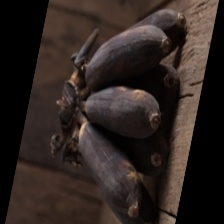banana: (15, 36, 207, 224)
